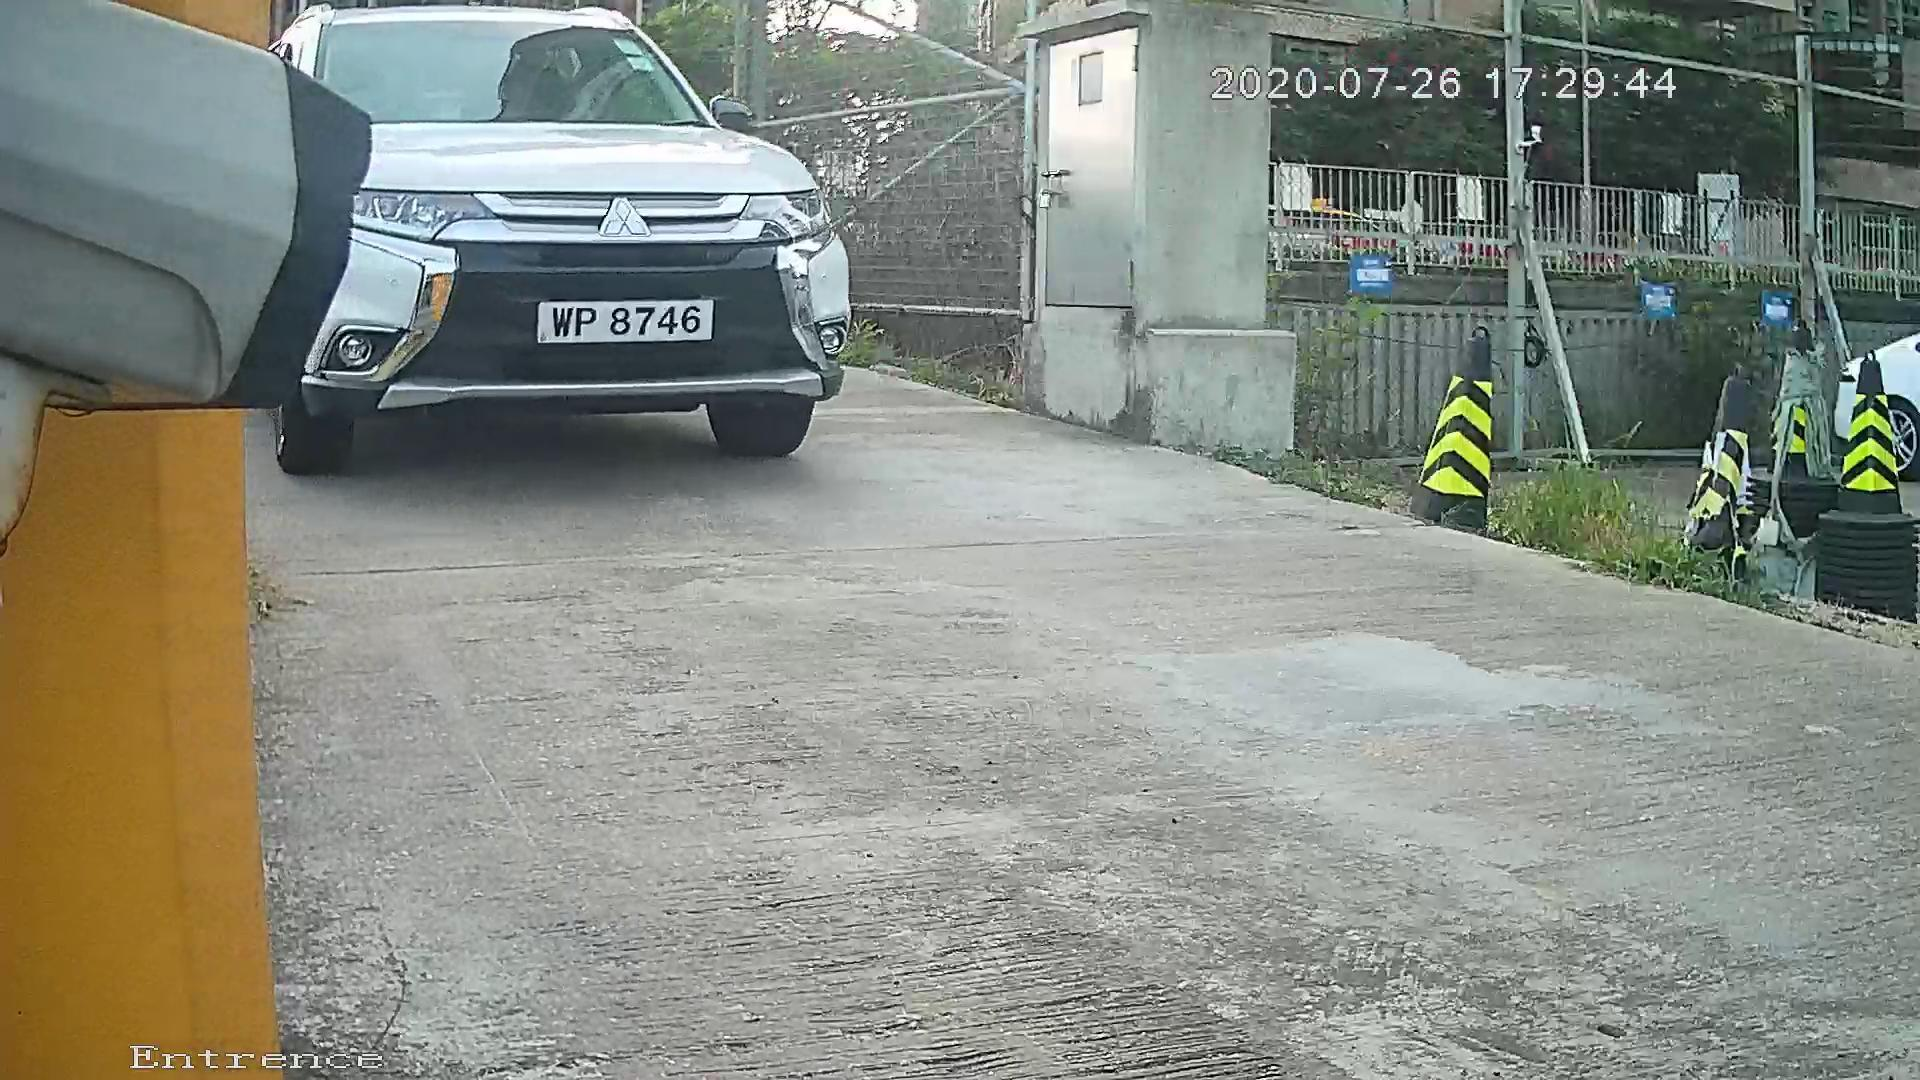privatecar: (206, 1, 918, 512)
